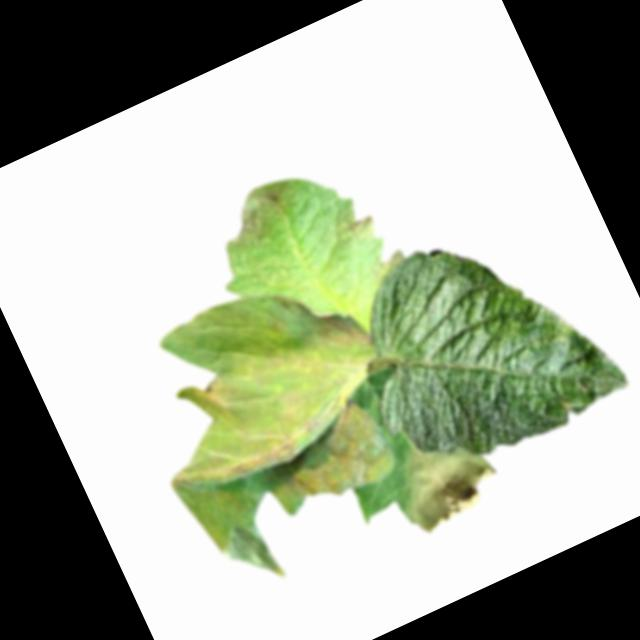Late_blight: (255, 390, 401, 521), (385, 420, 512, 541), (280, 272, 374, 374), (210, 178, 300, 261), (192, 370, 238, 417), (344, 212, 377, 239)
